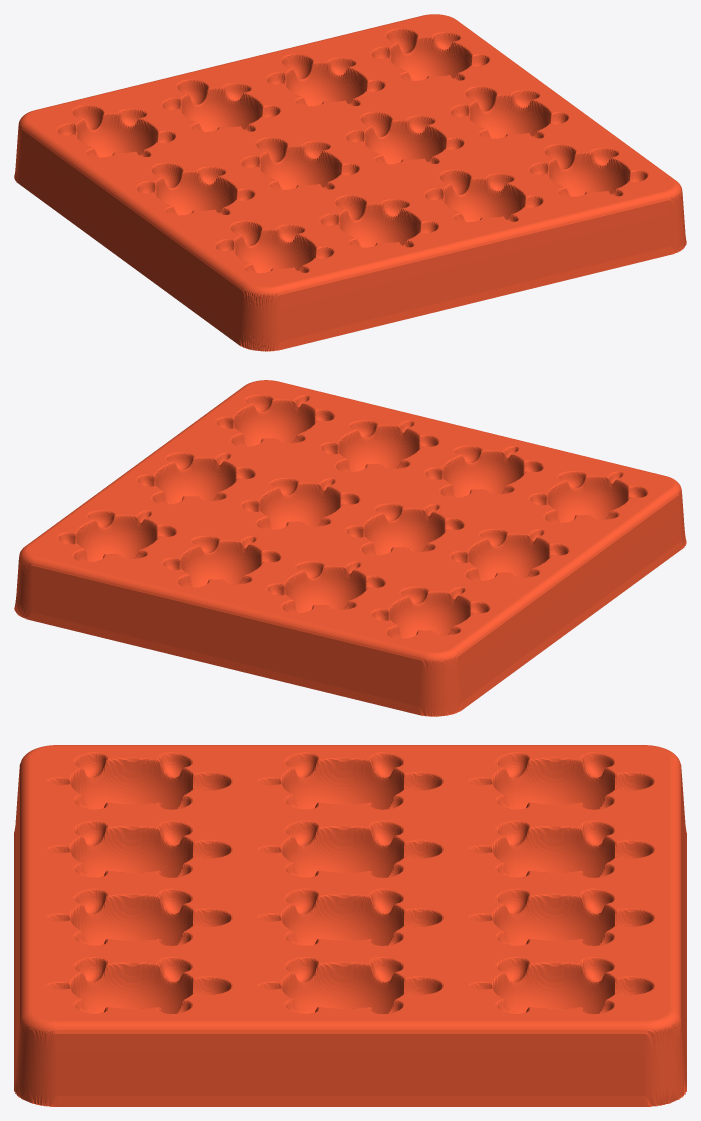
Rendered from mold.glb.
The picture shows the model from 3 angles, top to bottom: view 1: azimuth 30°, elevation 25°; view 2: azimuth 150°, elevation 25°; view 3: azimuth 270°, elevation 25°; orthographic projection. The views are drawn at different scales.
Parts seen in each view (by area): view 1: geometry_0; view 2: geometry_0; view 3: geometry_0.
Boxes of the visible parts, x1,y1,x2,y2 form: geometry_0: (14,14,686,351); geometry_0: (14,380,686,716); geometry_0: (14,745,686,1106).
Bounding box in the file's own units: 0.1434 × 0.0182 × 0.141.
